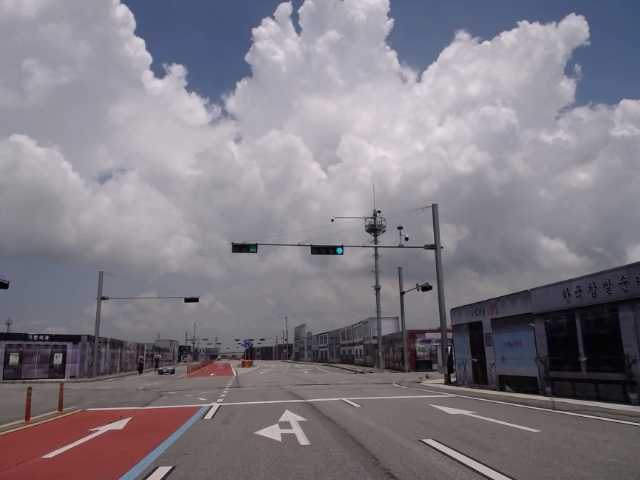straight_green_4: (311, 245, 343, 255)
